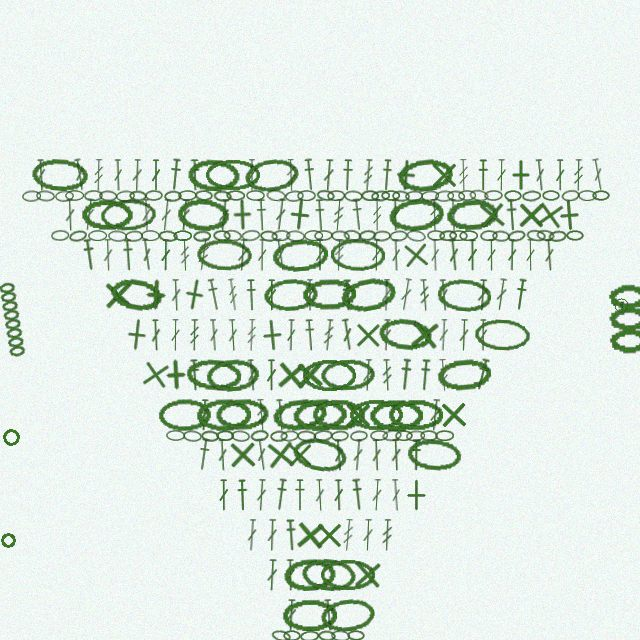chain: (290, 434, 350, 475), (338, 274, 398, 315), (108, 275, 165, 315), (243, 156, 301, 194), (396, 156, 454, 194), (319, 596, 376, 634), (271, 396, 328, 434), (300, 556, 358, 593), (387, 196, 445, 233), (377, 316, 434, 353), (271, 237, 329, 273), (406, 437, 463, 473), (185, 357, 242, 393), (205, 357, 261, 393), (436, 357, 492, 393), (436, 277, 492, 313), (31, 157, 88, 192), (445, 197, 500, 233), (263, 277, 319, 312), (292, 397, 347, 432), (176, 197, 231, 232), (474, 318, 530, 352), (196, 238, 252, 272), (100, 198, 156, 232), (283, 557, 337, 592), (320, 358, 375, 392), (330, 238, 386, 271), (187, 158, 241, 192), (196, 398, 251, 431), (215, 398, 270, 431), (320, 559, 376, 591), (205, 159, 261, 191), (158, 398, 212, 431), (302, 278, 356, 311), (282, 599, 337, 631), (349, 399, 404, 431), (388, 399, 443, 431), (312, 399, 366, 431), (369, 399, 423, 431), (302, 359, 356, 391), (81, 199, 134, 231), (68, 229, 88, 243), (406, 229, 426, 243), (507, 229, 526, 243), (313, 429, 333, 442), (382, 429, 402, 442), (241, 229, 261, 242), (271, 229, 291, 242), (526, 229, 546, 242), (266, 189, 286, 202), (469, 189, 489, 202), (250, 429, 269, 442), (223, 229, 242, 242), (343, 229, 362, 242), (358, 229, 377, 242), (536, 229, 555, 242), (316, 189, 335, 202), (561, 189, 580, 202), (158, 230, 178, 242), (183, 430, 202, 442), (231, 430, 250, 442), (280, 430, 299, 442), (297, 430, 316, 442), (406, 430, 425, 442), (108, 230, 127, 242), (286, 230, 305, 242), (331, 230, 350, 242), (389, 230, 408, 242), (548, 230, 567, 242), (22, 190, 41, 202), (36, 190, 55, 202), (55, 190, 74, 202), (116, 190, 135, 202), (213, 190, 232, 202), (285, 190, 304, 202), (344, 190, 363, 202), (371, 190, 390, 202), (435, 190, 454, 202), (522, 190, 541, 202), (271, 629, 291, 640), (201, 430, 219, 442), (270, 430, 288, 442), (331, 430, 349, 442), (350, 430, 368, 442), (125, 230, 143, 242), (193, 230, 211, 242), (260, 230, 278, 242), (373, 230, 391, 242), (492, 230, 510, 242), (99, 190, 117, 202), (129, 190, 147, 202), (164, 190, 182, 202), (392, 190, 410, 202), (405, 190, 423, 202), (421, 190, 439, 202), (447, 190, 465, 202), (166, 430, 185, 441), (435, 430, 454, 441), (88, 230, 107, 241), (141, 230, 160, 241), (173, 230, 192, 241), (304, 230, 323, 241), (314, 230, 333, 241), (449, 230, 468, 241), (459, 230, 478, 241), (65, 190, 84, 201), (84, 190, 103, 201), (178, 190, 197, 201), (226, 190, 245, 201), (246, 190, 265, 201), (297, 190, 316, 201), (381, 190, 400, 201), (484, 190, 503, 201), (578, 190, 597, 201), (216, 430, 234, 441), (370, 430, 388, 441), (395, 430, 413, 441), (420, 430, 438, 441), (51, 230, 69, 241), (213, 230, 231, 241), (427, 230, 445, 241), (439, 230, 457, 241), (480, 230, 498, 241), (566, 230, 584, 241), (145, 190, 163, 201), (195, 190, 213, 201), (327, 190, 345, 201), (361, 190, 379, 201), (458, 190, 476, 201), (504, 190, 522, 201), (542, 190, 560, 201), (592, 190, 610, 201), (300, 630, 319, 640), (331, 630, 350, 640), (283, 630, 301, 640), (318, 630, 336, 640), (347, 630, 365, 640)
double: (398, 278, 414, 311), (590, 158, 606, 191), (254, 438, 269, 471), (340, 318, 355, 351), (494, 278, 509, 311), (273, 238, 288, 271), (72, 158, 87, 191), (140, 238, 154, 271), (82, 198, 96, 231), (428, 399, 442, 431), (447, 239, 461, 271), (159, 199, 173, 231), (217, 199, 231, 231), (533, 159, 547, 191), (274, 198, 287, 231), (255, 479, 268, 511), (274, 399, 287, 431), (476, 279, 489, 311), (236, 239, 249, 271), (543, 239, 556, 271), (178, 199, 191, 231), (322, 159, 335, 191), (285, 599, 297, 631), (266, 559, 278, 591), (246, 519, 258, 551), (266, 519, 278, 551), (362, 519, 374, 551), (314, 479, 326, 511), (371, 479, 383, 511), (390, 479, 402, 511), (333, 439, 345, 471), (352, 439, 364, 471), (390, 439, 402, 471), (198, 399, 210, 431), (246, 359, 258, 391), (362, 359, 374, 391), (150, 319, 162, 351), (208, 319, 220, 351), (227, 319, 239, 351), (458, 319, 470, 351), (170, 279, 182, 311), (438, 279, 450, 311), (102, 239, 114, 271), (64, 199, 76, 231), (35, 159, 47, 191), (131, 159, 143, 191), (285, 559, 296, 591), (218, 479, 229, 511), (333, 479, 344, 511), (217, 439, 228, 471), (371, 439, 382, 471), (266, 359, 277, 391), (170, 319, 181, 351), (381, 319, 392, 351), (438, 319, 449, 351), (266, 279, 277, 311), (381, 279, 392, 311), (160, 239, 171, 271), (371, 239, 382, 271), (467, 239, 478, 271), (486, 239, 497, 271), (525, 239, 536, 271), (141, 199, 152, 231), (390, 199, 401, 231), (448, 199, 459, 231), (496, 159, 507, 191), (286, 319, 296, 351), (478, 319, 488, 351), (305, 279, 315, 311), (257, 239, 267, 271), (315, 239, 325, 271), (391, 239, 401, 271), (430, 239, 440, 271), (507, 239, 517, 271), (113, 159, 123, 191), (151, 159, 161, 191), (247, 159, 257, 191), (555, 159, 565, 191)
enseble_chain: (604, 283, 640, 357), (0, 281, 27, 359)
half_double: (473, 358, 492, 391), (205, 278, 223, 311), (273, 478, 289, 511), (196, 438, 212, 471), (513, 278, 529, 311), (81, 238, 97, 271), (350, 478, 365, 511), (398, 358, 413, 391), (350, 198, 365, 231), (168, 158, 183, 191), (302, 158, 317, 191), (322, 599, 336, 631), (284, 519, 298, 551), (418, 359, 432, 391), (303, 319, 317, 351), (121, 239, 135, 271), (313, 199, 327, 231), (505, 199, 519, 231), (380, 159, 394, 191), (236, 479, 249, 511), (188, 359, 201, 391), (245, 279, 258, 311), (341, 279, 354, 311), (255, 199, 268, 231), (341, 159, 354, 191), (294, 479, 306, 511), (410, 439, 422, 471), (189, 159, 201, 191), (477, 159, 489, 191)
noise: (0, 426, 22, 448), (612, 296, 631, 315), (0, 531, 18, 550)
single: (137, 356, 174, 393), (176, 276, 213, 313), (532, 197, 568, 233), (263, 437, 298, 472), (119, 317, 154, 352), (407, 317, 442, 352), (282, 197, 317, 232), (293, 518, 327, 552), (274, 358, 308, 392), (255, 318, 289, 352), (399, 238, 433, 272), (475, 198, 509, 232), (552, 198, 586, 232), (389, 158, 423, 192), (351, 558, 384, 591), (226, 438, 259, 471), (437, 398, 470, 431), (159, 358, 192, 391), (293, 358, 326, 391), (139, 278, 172, 311), (226, 198, 259, 231), (313, 519, 345, 551), (400, 479, 432, 511), (284, 439, 316, 471), (342, 399, 374, 431), (352, 319, 384, 351), (102, 279, 134, 311), (515, 199, 547, 231), (428, 159, 460, 191), (505, 159, 537, 191)
treble: (196, 238, 211, 271), (226, 278, 240, 311), (341, 519, 355, 551), (255, 399, 268, 431), (437, 359, 450, 391), (322, 319, 335, 351), (418, 279, 431, 311), (332, 199, 345, 231), (381, 519, 393, 551), (381, 359, 393, 391), (179, 239, 191, 271), (333, 239, 345, 271), (285, 159, 297, 191), (362, 159, 374, 191), (189, 319, 200, 351), (246, 319, 257, 351), (429, 199, 440, 231), (93, 159, 104, 191), (458, 159, 469, 191), (573, 159, 584, 191), (372, 199, 382, 231)
